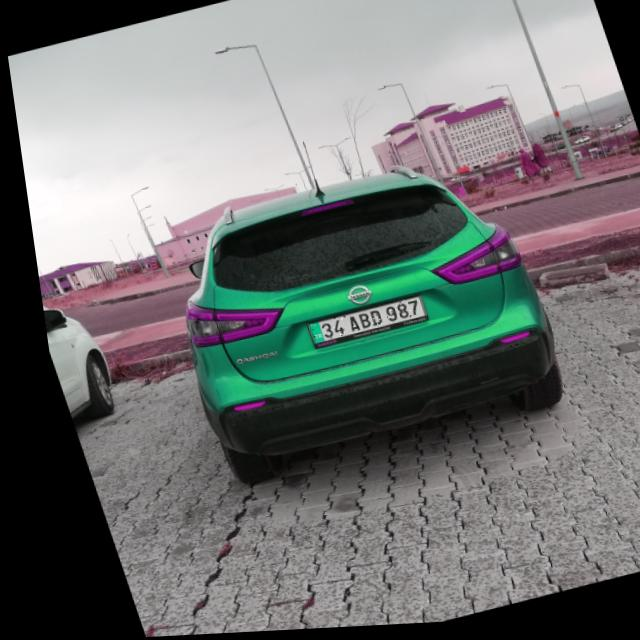license_plate: (295, 300, 420, 347)
